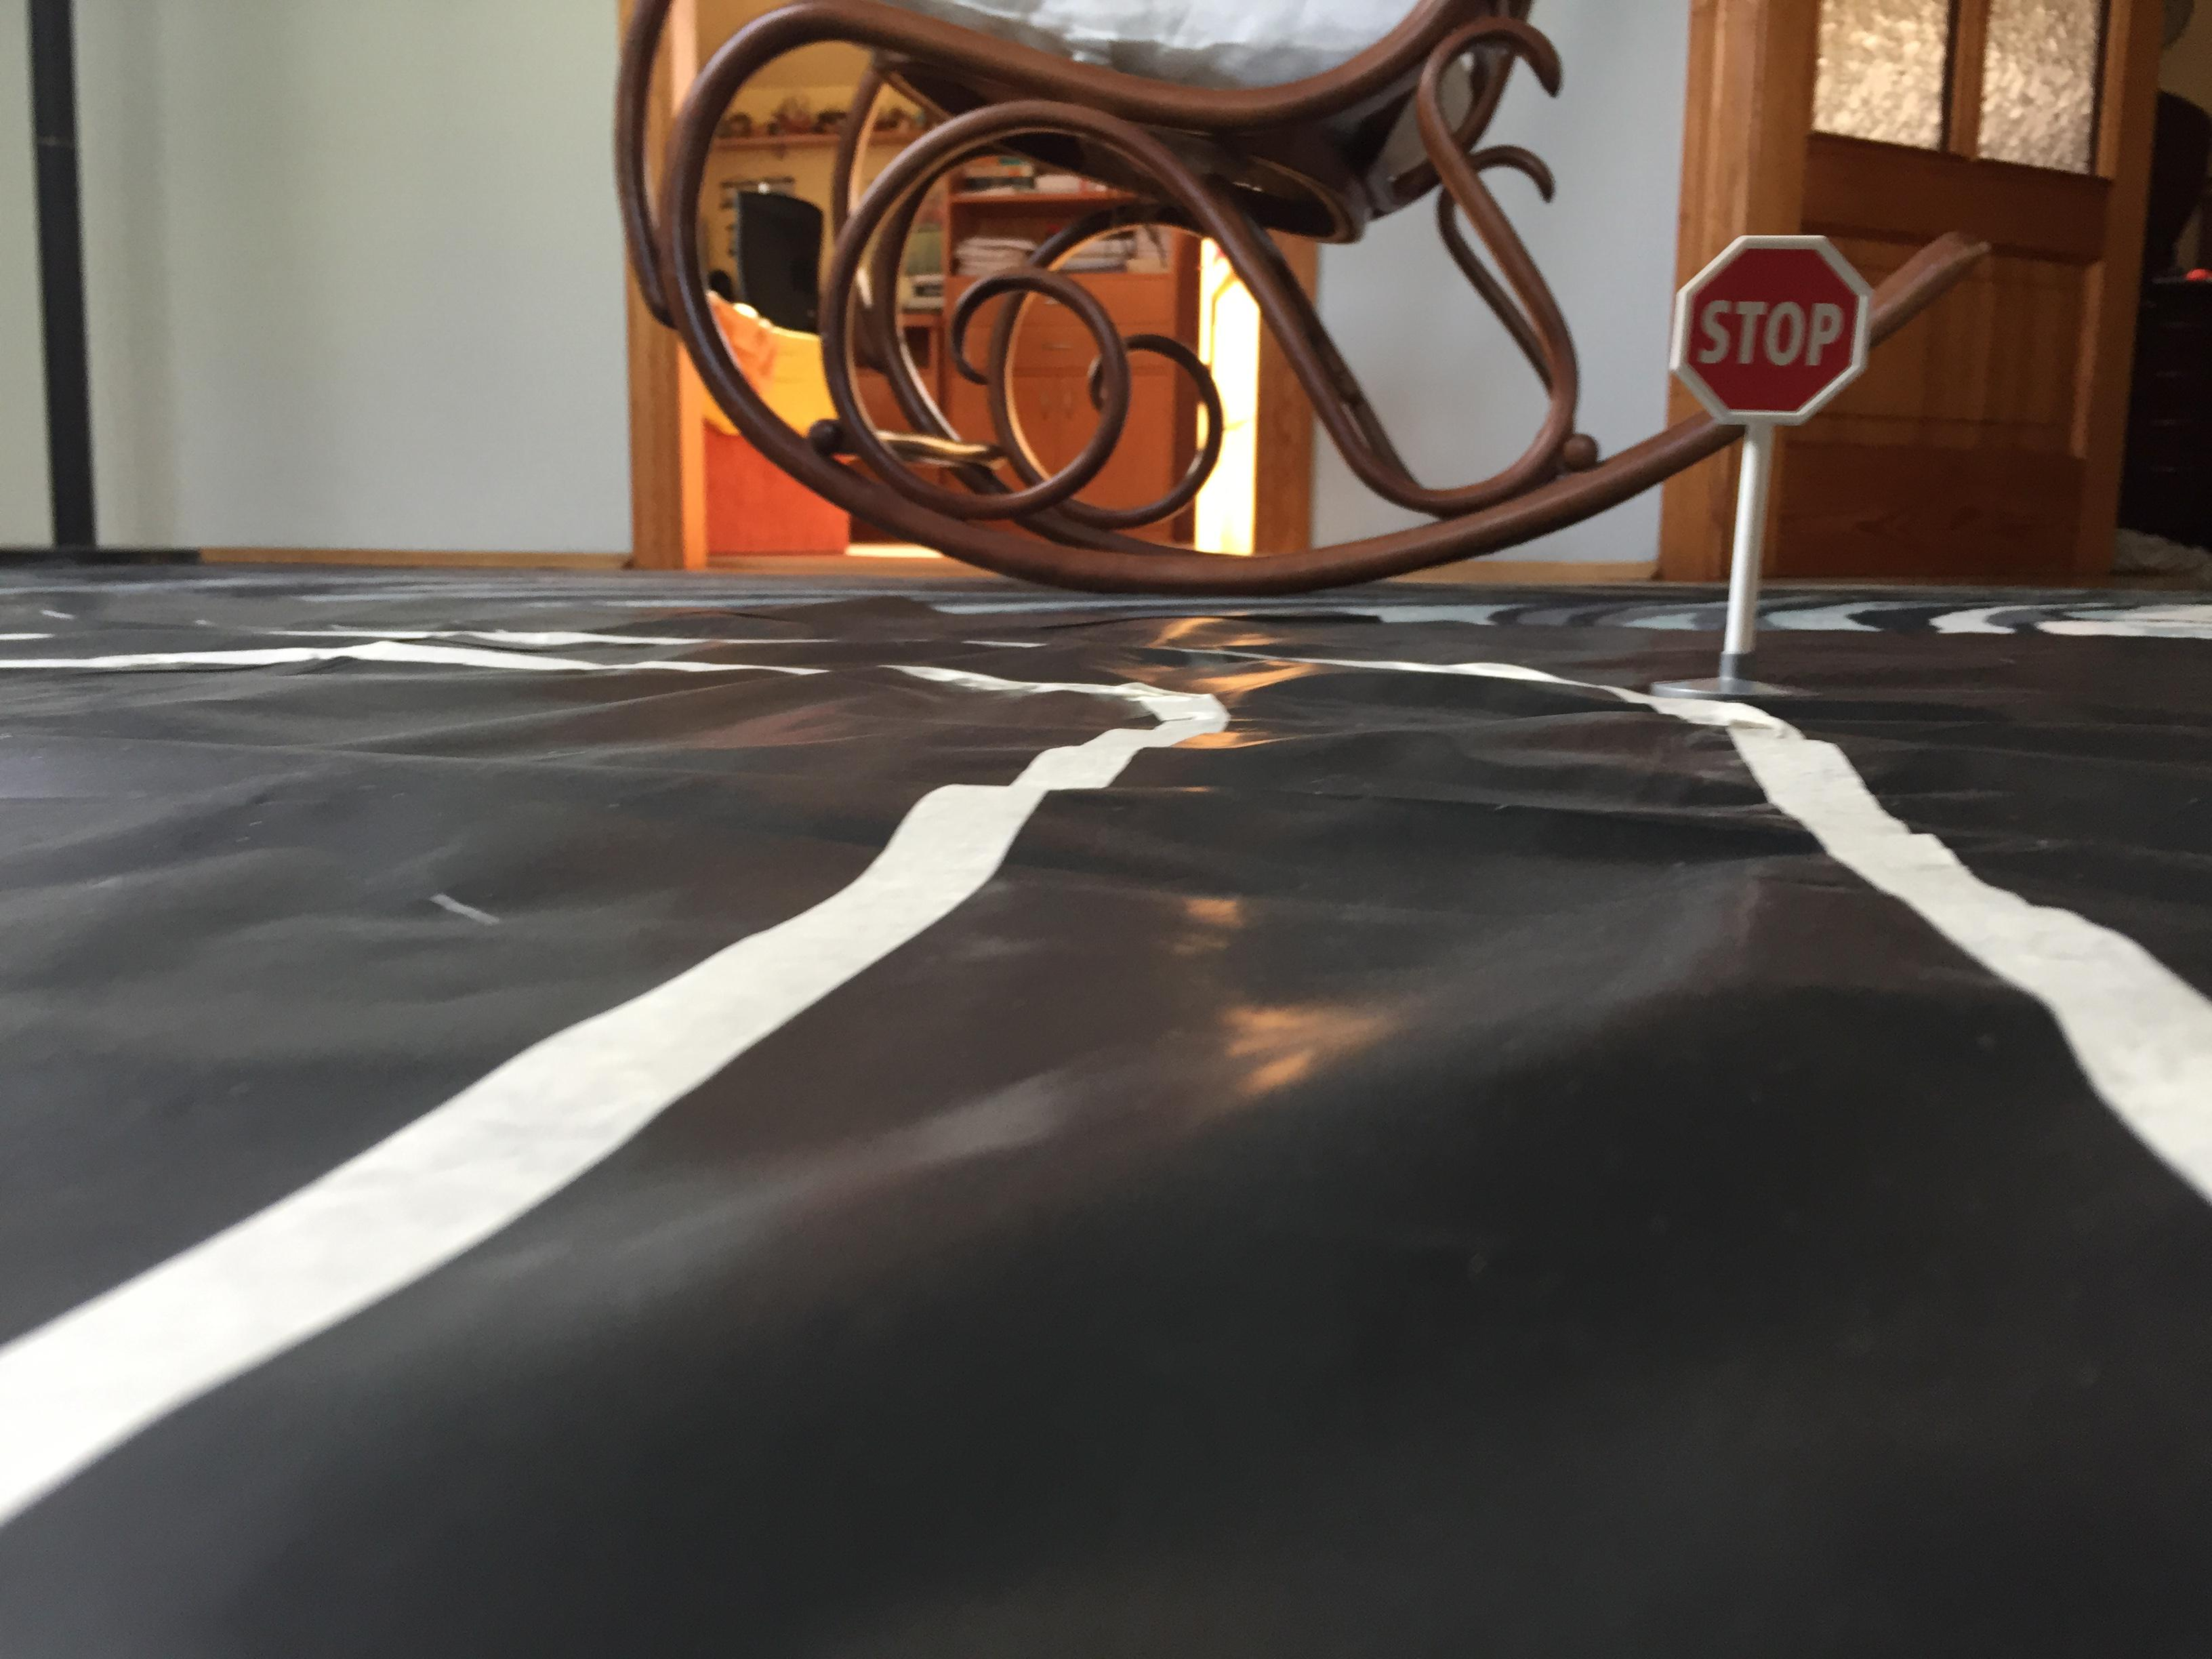stop: (1660, 227, 1897, 443)
